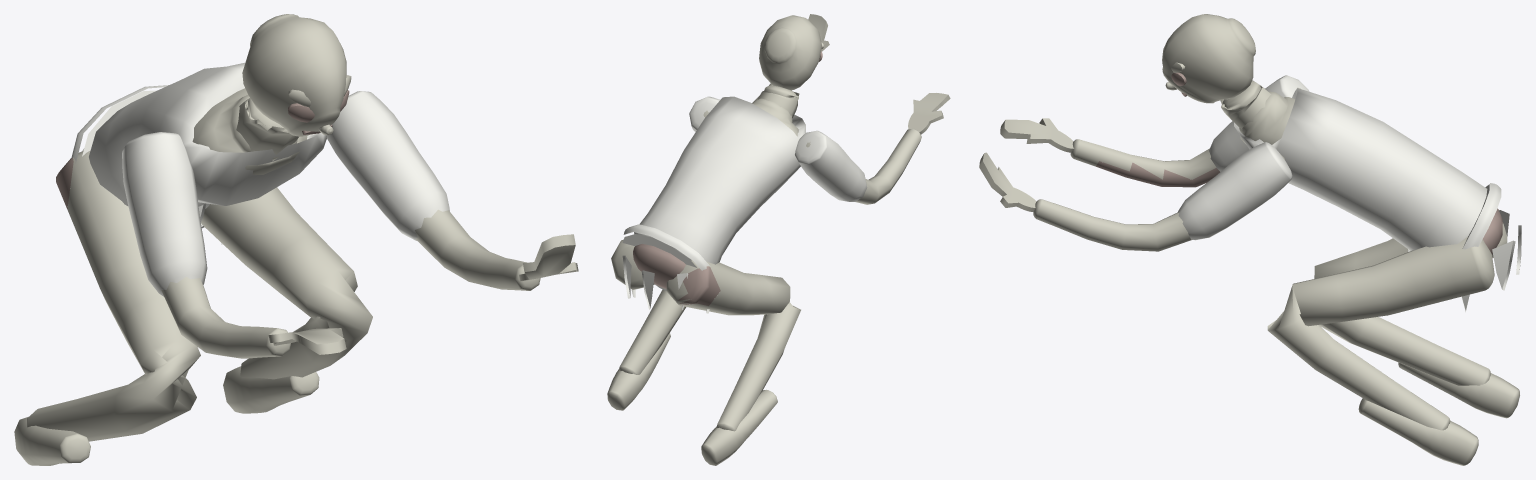
The model's file is undead-horde-and-infected-variants-walker-ward-patient-f810978a__11991.glb.
3 views of the same model, side by side, from view 1: azimuth 30°, elevation 25°; view 2: azimuth 150°, elevation 25°; view 3: azimuth 270°, elevation 25° (orthographic). The views are drawn at different scales.
Parts seen in each view (by area): view 1: walker-ward-patient-crouched; view 2: walker-ward-patient-crouched; view 3: walker-ward-patient-crouched.
Part boxes in pixels (x1,y1,x2,y2): walker-ward-patient-crouched: (14, 14, 578, 465); walker-ward-patient-crouched: (607, 14, 950, 465); walker-ward-patient-crouched: (979, 14, 1521, 465).
Size of the model in its own units: 0.5113 by 0.9858 by 1.14.
